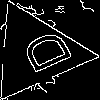D: (10, 27, 74, 80)
